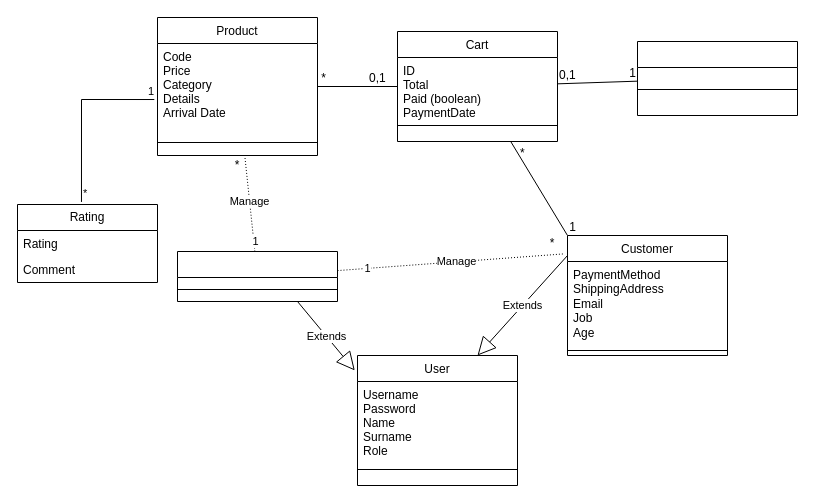
Some shapes in this 815 by 503 pixel diagram are drawn without their labels. The shapes that lost their labels are listed below. From the top down, each one's centre as x and y in pixels, then its label:
At pixel 717 78: "Payment".
At pixel 257 276: "Manager".
